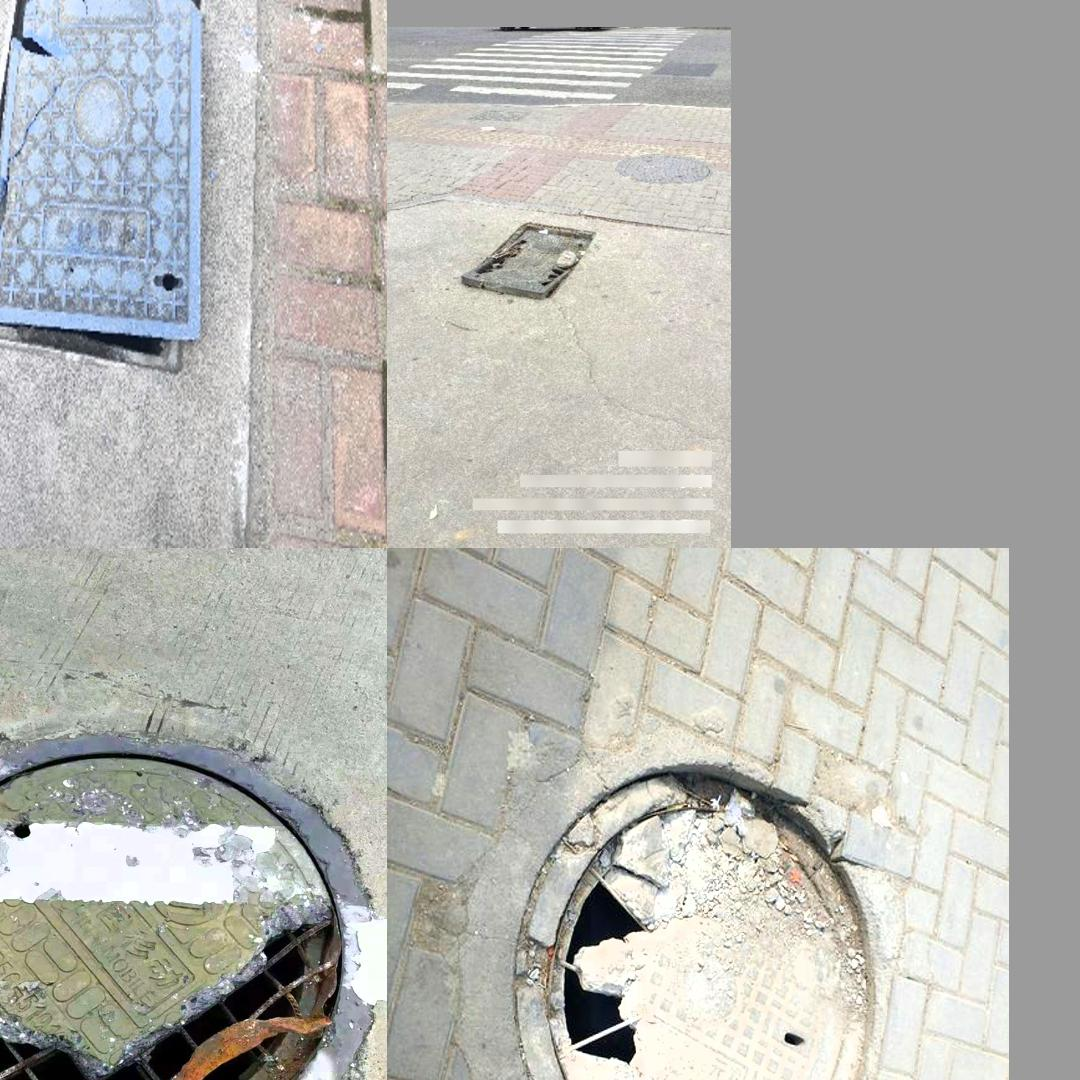broke: (498, 730, 878, 1080), (0, 734, 375, 1080), (0, 0, 203, 384), (459, 222, 596, 298)
good: (614, 153, 715, 183)
